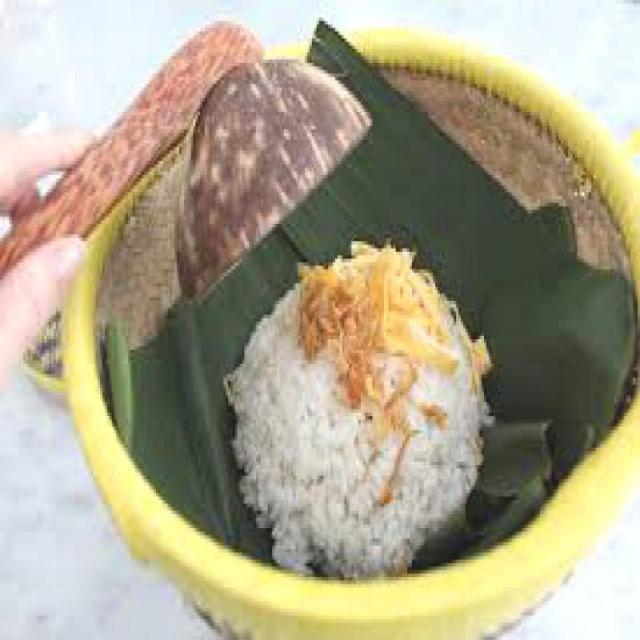rice: (231, 250, 488, 580)
